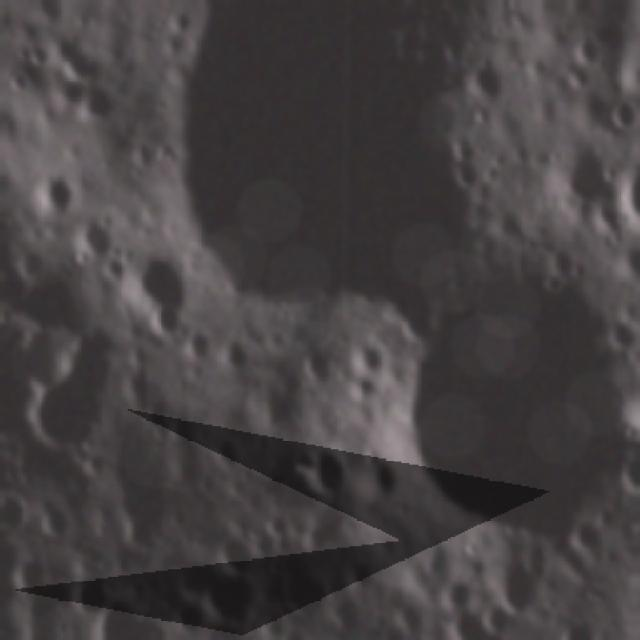crater: (290, 253, 636, 564), (170, 0, 483, 292), (538, 132, 622, 208), (269, 553, 342, 629), (116, 246, 184, 312), (492, 553, 552, 624), (61, 566, 117, 620), (63, 211, 115, 269), (20, 162, 74, 216), (300, 442, 352, 498), (351, 452, 403, 508), (173, 552, 215, 603), (218, 330, 264, 376), (214, 527, 257, 576), (5, 554, 50, 598), (347, 331, 387, 380), (463, 57, 505, 103), (168, 593, 206, 636), (176, 322, 215, 362), (298, 350, 334, 392), (344, 368, 381, 407), (569, 27, 603, 67), (10, 246, 48, 280), (0, 488, 31, 529), (556, 612, 601, 640), (40, 502, 71, 542), (449, 127, 480, 161), (607, 91, 636, 127), (28, 39, 52, 70), (7, 67, 30, 96), (280, 618, 306, 640)
